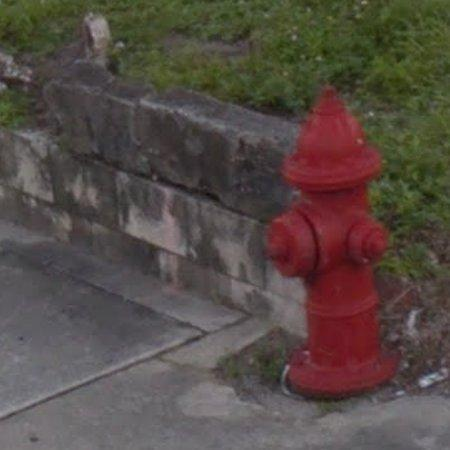a fire hydrant: (268, 87, 399, 400)
